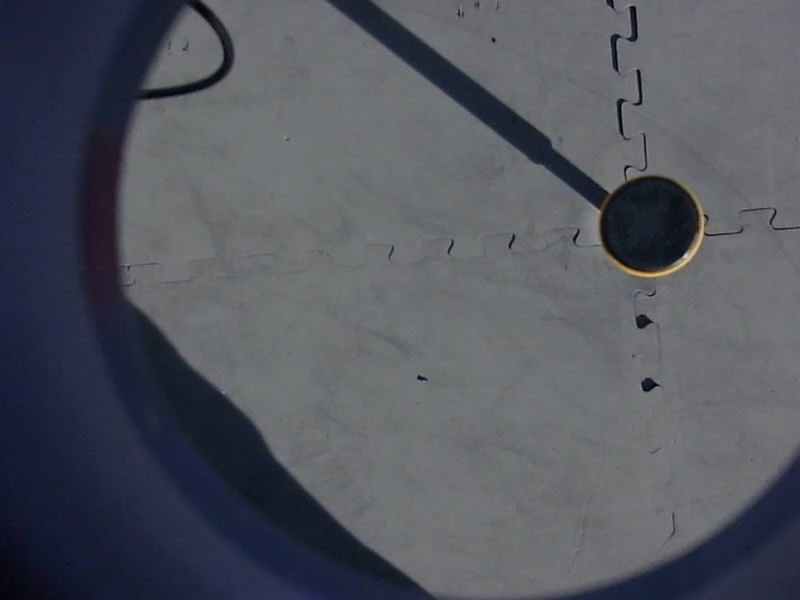tip: (590, 170, 710, 288)
